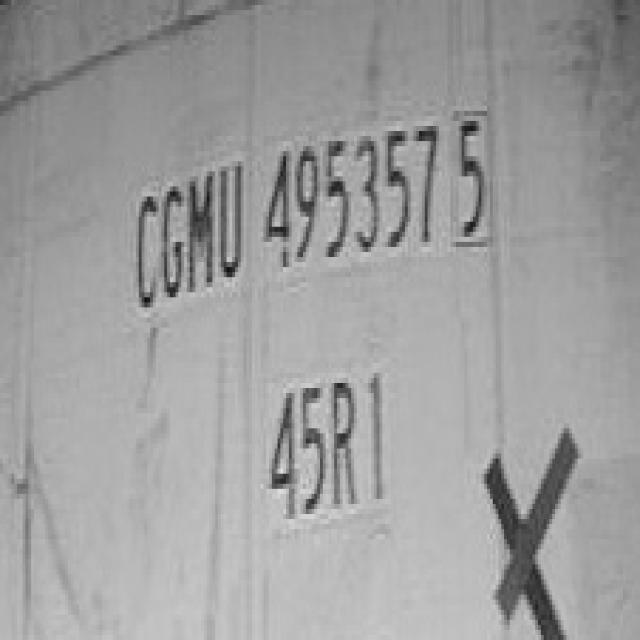dv: (450, 97, 500, 260)
owner: (126, 150, 251, 306)
serial: (262, 121, 442, 272)
size: (259, 352, 400, 536)
